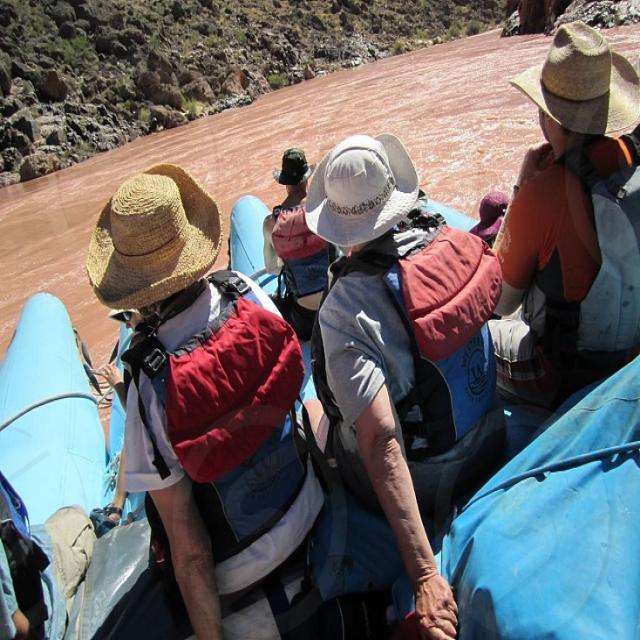hat: (86, 165, 224, 314), (512, 22, 640, 160), (302, 137, 426, 255), (273, 149, 316, 198)
